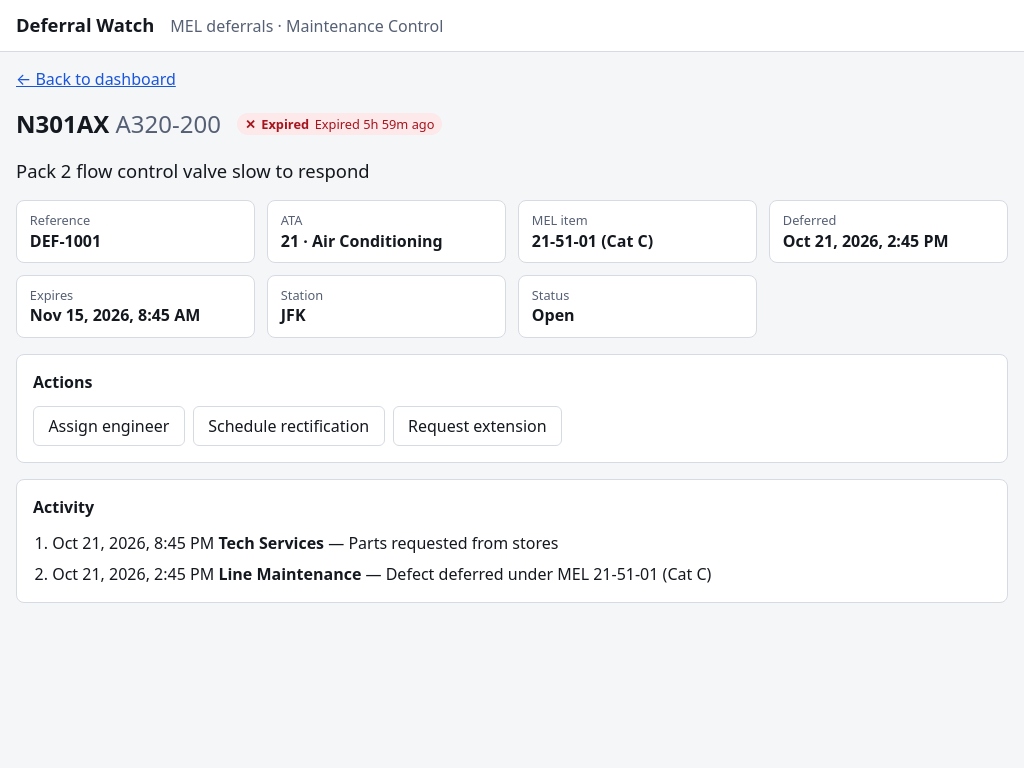
detail + actions › assigns an engineer and updates status/timeline
Check: the heading "N301AX A320-200" is shown, box [16,107,221,142]
Click the button "Assign engineer": (109, 426) [33,406,185,446]
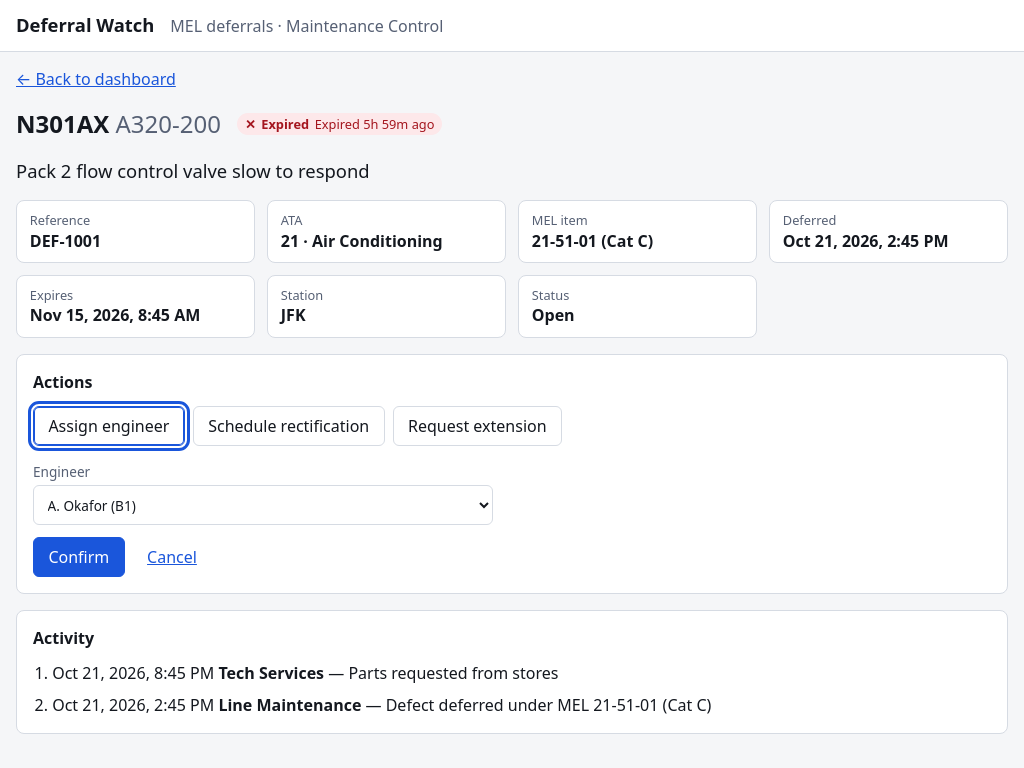
Click the button "Confirm": (79, 557) [33,537,125,577]
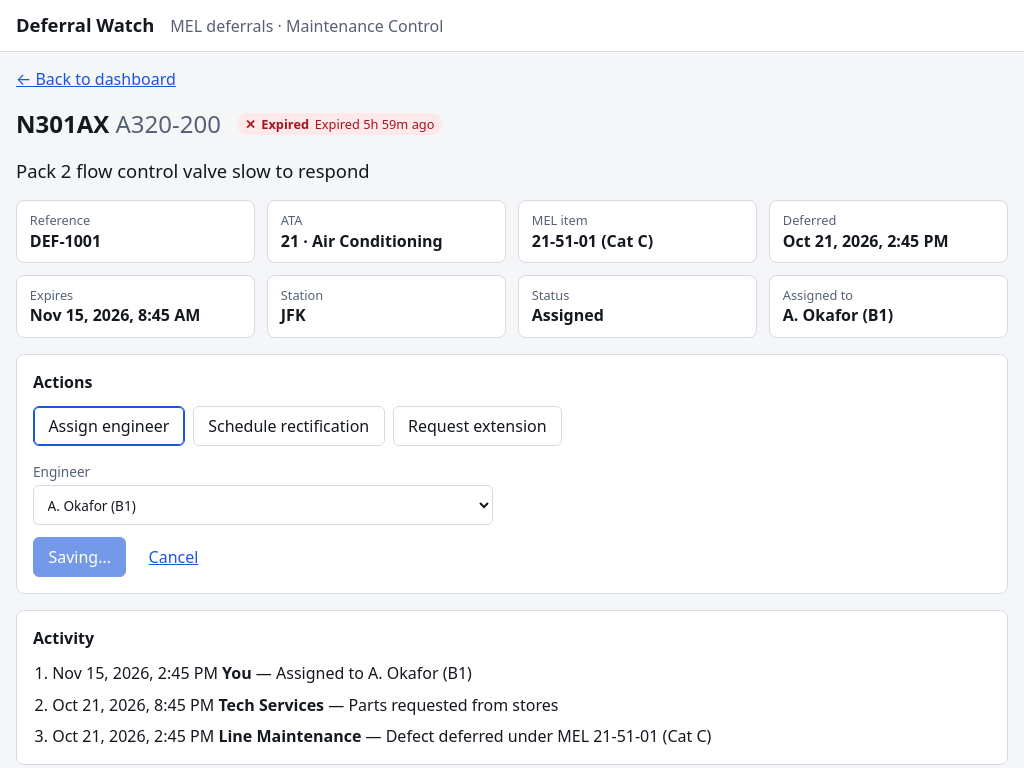
Check: the list item "Nov 15, 2026, 2:45 PM You — Assigned to A. Okafor (B1)" is shown, box [52,662,472,684]
Check: the text "Assigned to" is shown, box [783,286,853,304]
